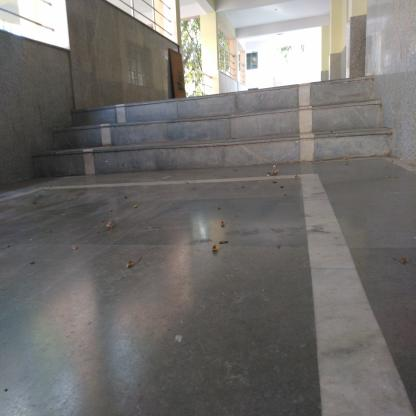stairs: (86, 99, 368, 174)
